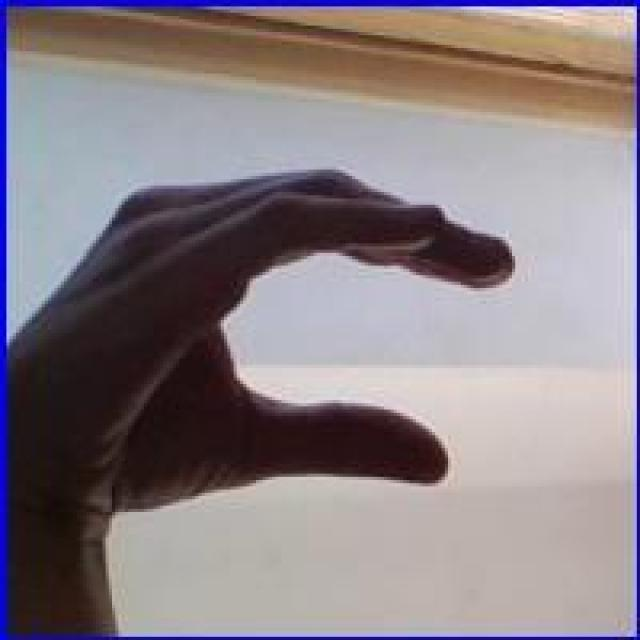C: (24, 165, 520, 510)
